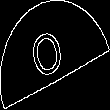O_S: (34, 23, 76, 87)
